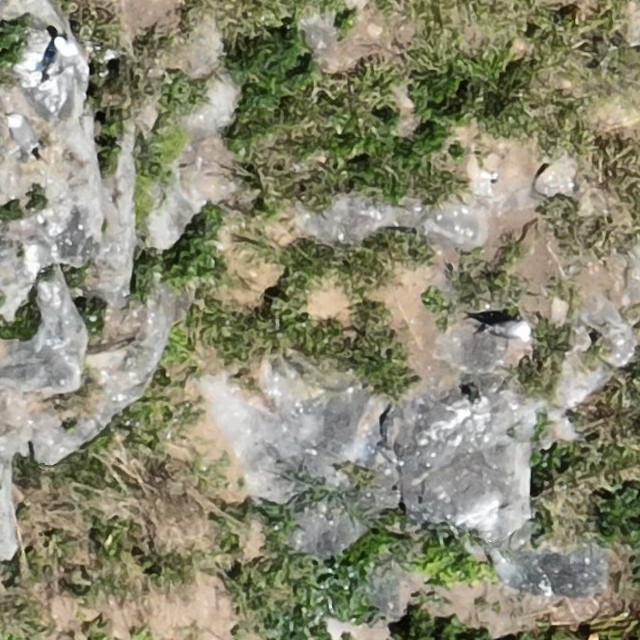umineko: (10, 116, 37, 150), (492, 322, 530, 339), (50, 38, 69, 72)
